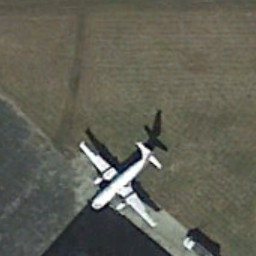Airplane: (52, 115, 199, 234)
